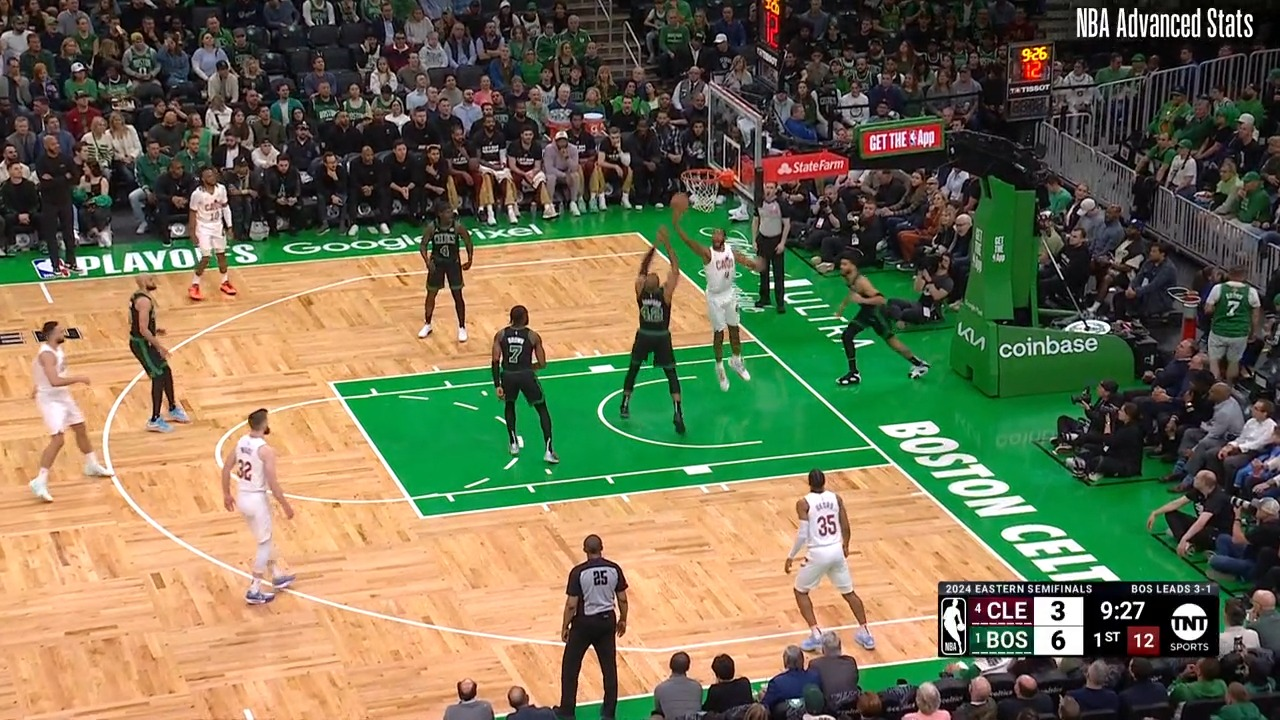basketball: (669, 192, 691, 212)
